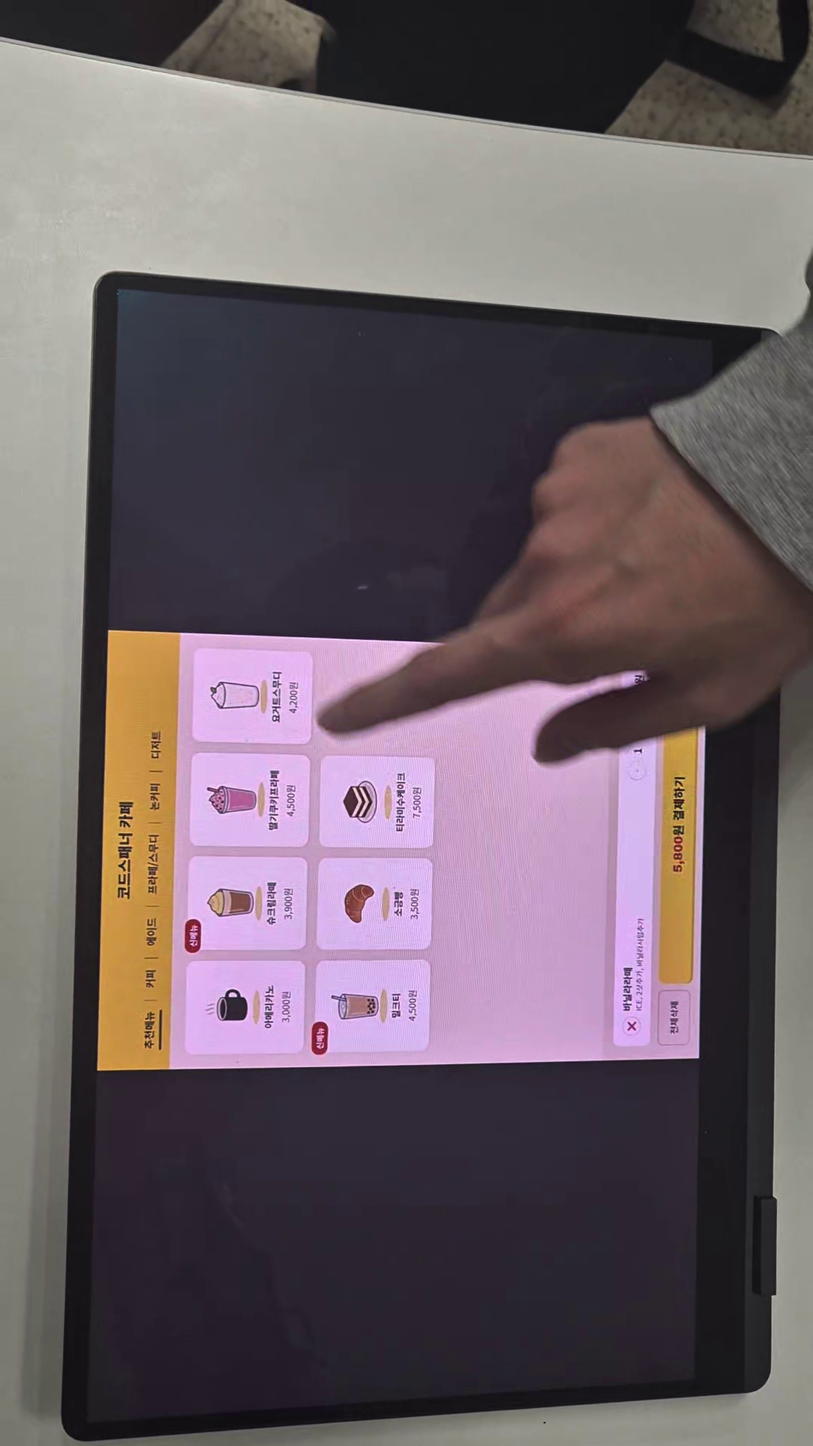action_button: (657, 671, 700, 985), (658, 988, 688, 1044)
cart_item: (612, 666, 656, 1048)
category_tab: (146, 829, 161, 900), (141, 1008, 157, 1054), (142, 914, 160, 952), (146, 778, 163, 816), (141, 964, 159, 997), (148, 727, 162, 764)
menu_back: (192, 648, 312, 743), (186, 857, 307, 950), (190, 754, 310, 847), (317, 857, 431, 952), (316, 961, 431, 1054), (321, 757, 436, 849), (187, 961, 304, 1051)
menu_name: (391, 768, 407, 836), (267, 767, 280, 831), (269, 669, 284, 723), (265, 876, 277, 930), (263, 983, 273, 1032), (389, 986, 403, 1021), (391, 888, 407, 918)
menu_price: (406, 987, 422, 1029), (278, 984, 294, 1026), (280, 881, 295, 925), (285, 781, 298, 823), (287, 678, 300, 717), (411, 786, 424, 821), (410, 887, 423, 921)
